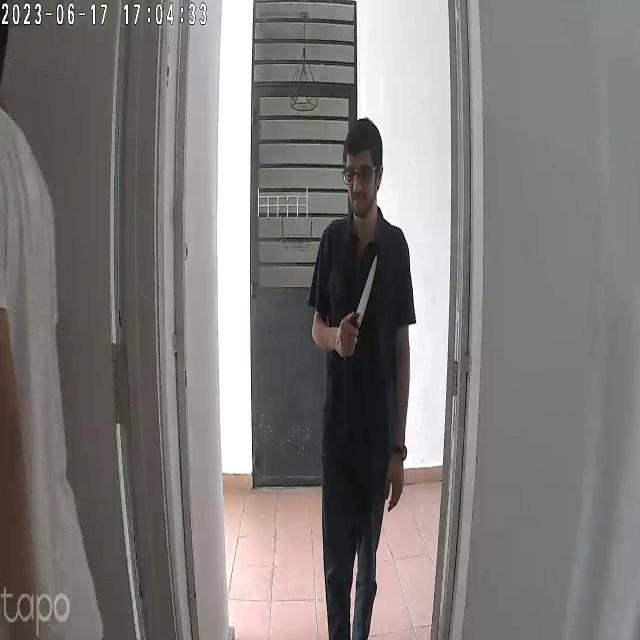Knife: (342, 251, 383, 339)
